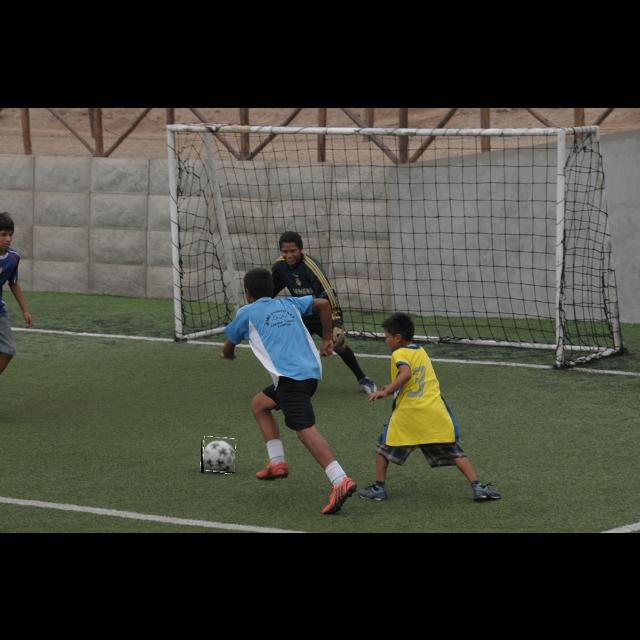Football: (201, 437, 235, 473)
